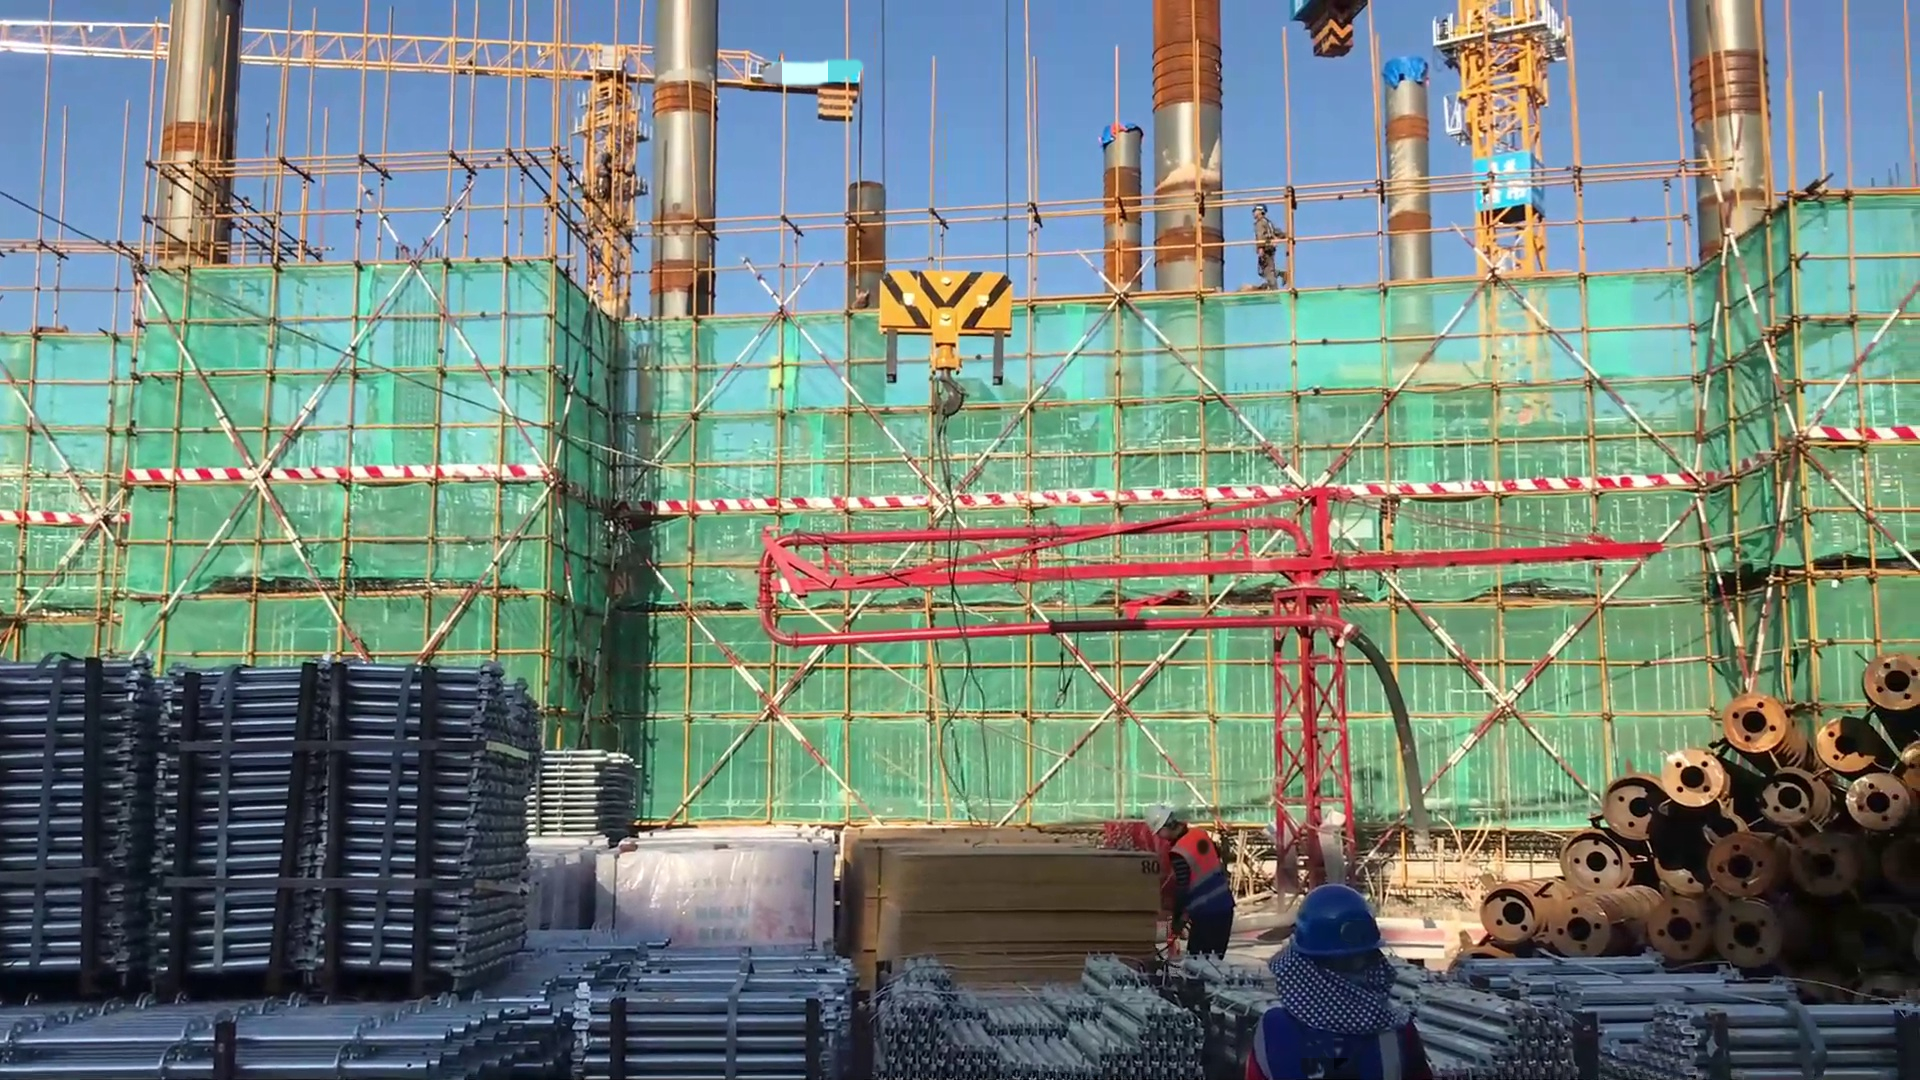board: (831, 829, 1169, 997)
helmet: (1280, 885, 1393, 957), (1141, 799, 1172, 841), (1252, 202, 1277, 212)
hook: (865, 239, 1038, 463)
person: (1245, 874, 1434, 1080), (1143, 808, 1243, 967), (1233, 202, 1307, 304)
scaffold: (1, 652, 548, 992), (1402, 952, 1920, 1079), (1, 977, 570, 1077), (534, 934, 844, 1080), (870, 951, 1206, 1080), (534, 745, 631, 848)
slogan: (1473, 162, 1545, 216)
vest: (1251, 996, 1420, 1080), (1165, 820, 1236, 937)
